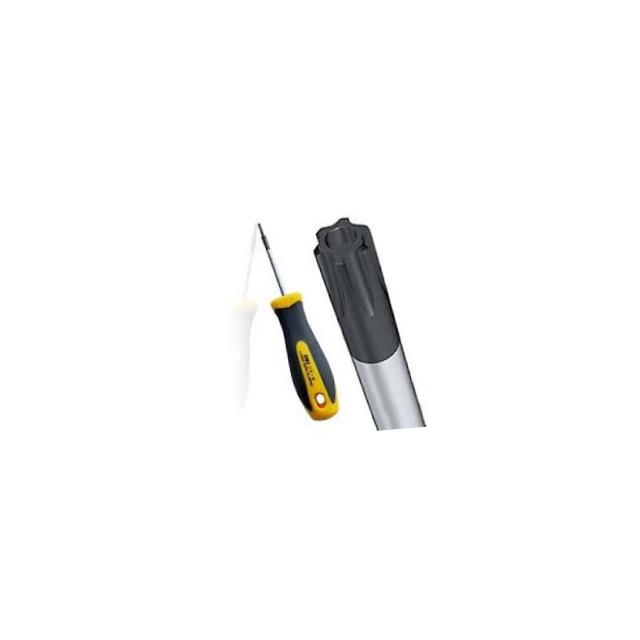screwdriver: (252, 215, 340, 428)
